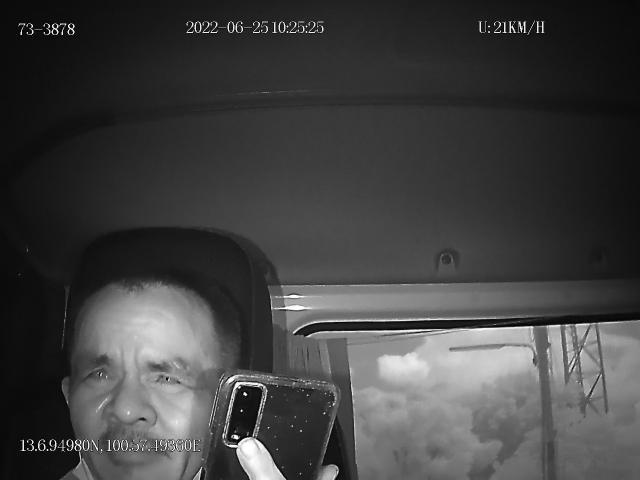PhoneUse: (203, 368, 339, 480)
SafeDriving: (76, 355, 120, 391), (146, 359, 192, 393)
